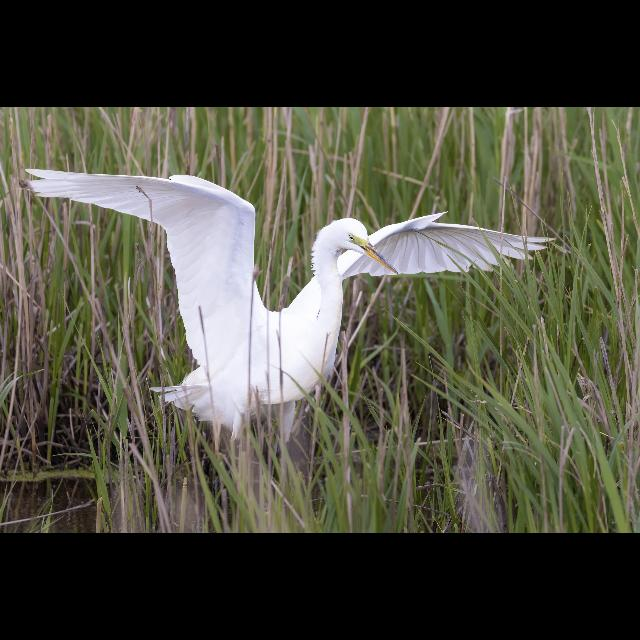egret: (24, 165, 552, 412)
